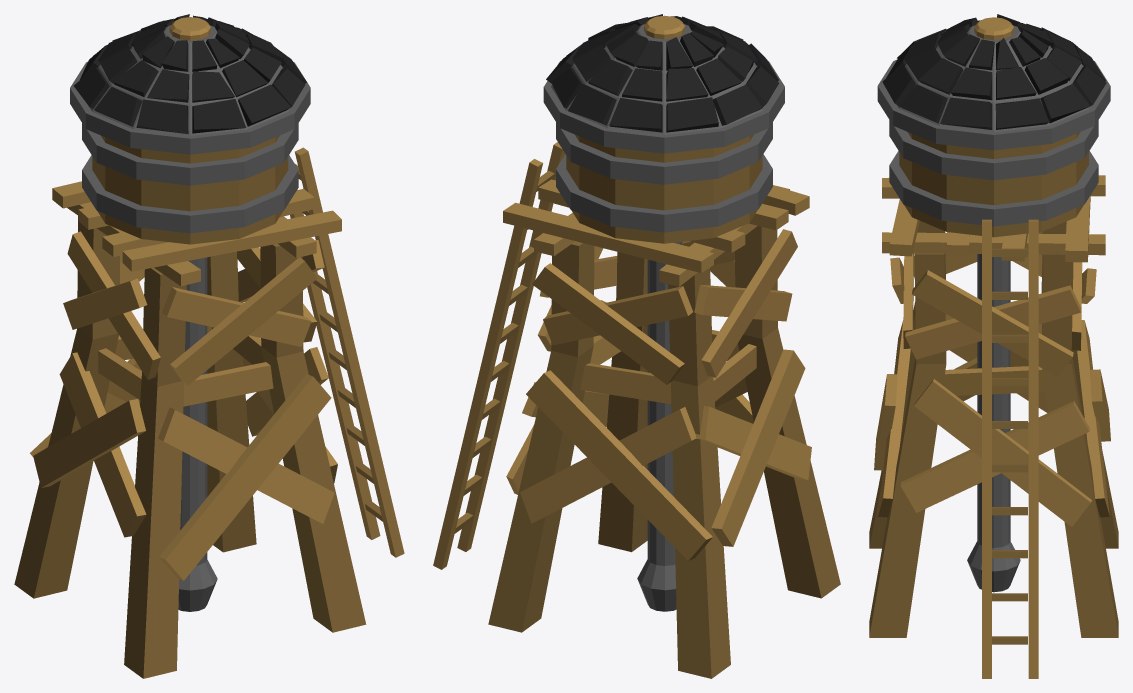
The model's file is water tower.fbx.
3 views of the same model, side by side, from view 1: azimuth 30°, elevation 25°; view 2: azimuth 150°, elevation 25°; view 3: azimuth 270°, elevation 25° (orthographic). The views are drawn at different scales.
Parts seen in each view (by area): view 1: water-tower_LOD0; view 2: water-tower_LOD0; view 3: water-tower_LOD0.
Boxes of the visible parts, x1,y1,x2,y2 form: water-tower_LOD0: (14, 14, 404, 678); water-tower_LOD0: (433, 14, 840, 678); water-tower_LOD0: (869, 14, 1118, 678).
Size of what is drawn, in the model's own units: 6.38 by 11.08 by 4.47.
